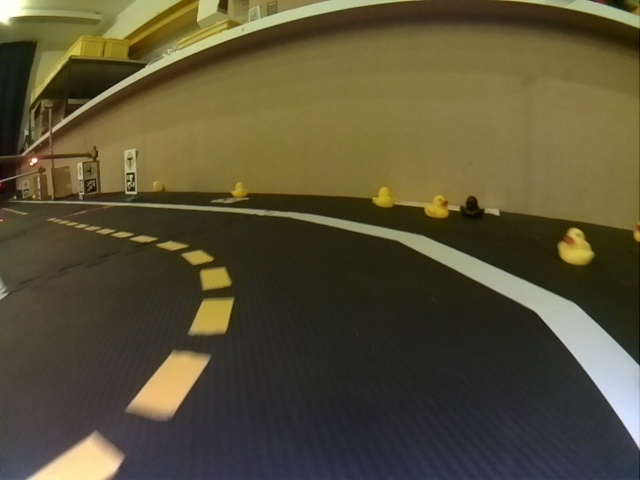Duckie: (558, 227, 594, 265), (425, 195, 449, 218), (461, 196, 484, 218), (372, 187, 394, 207), (232, 183, 248, 197), (152, 181, 162, 191)
Intersection sign: (126, 151, 135, 170), (86, 165, 95, 176)
QR code: (211, 197, 245, 205), (126, 173, 135, 192), (84, 179, 97, 191)
Traffic light: (29, 158, 35, 164)
